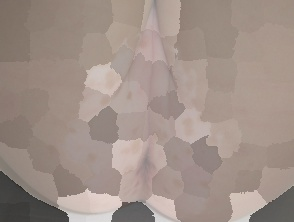vitiligo: (44, 0, 239, 222)
